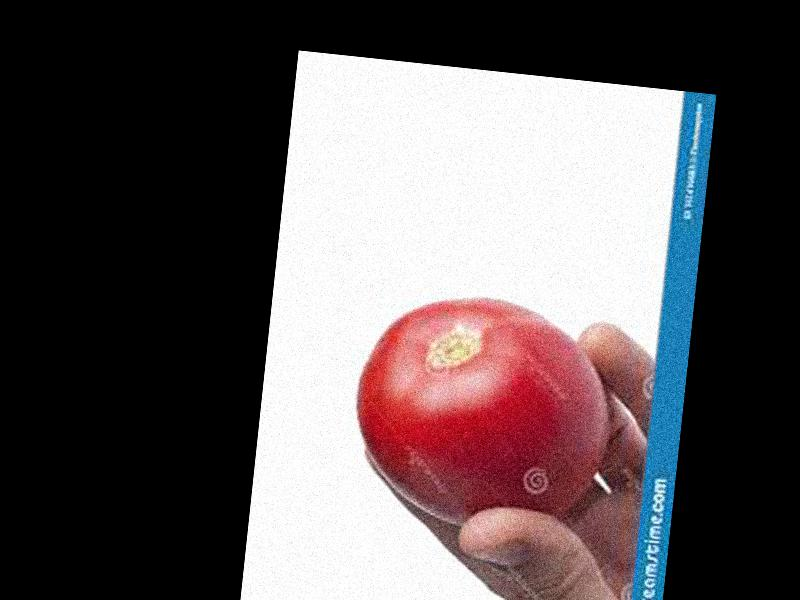Tomato: (345, 287, 620, 540)
